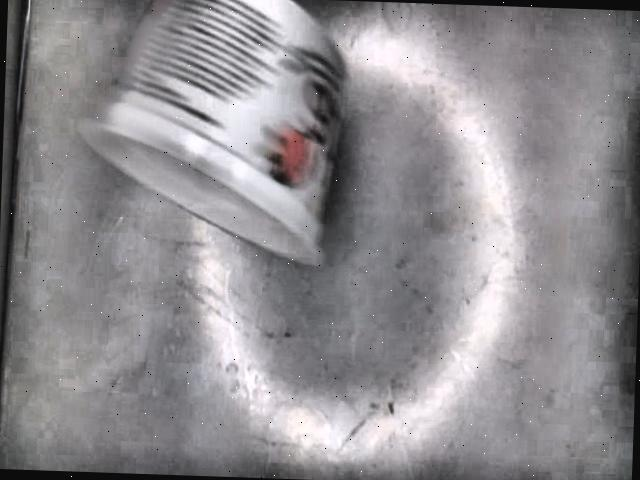Plastic: (80, 0, 345, 270)
